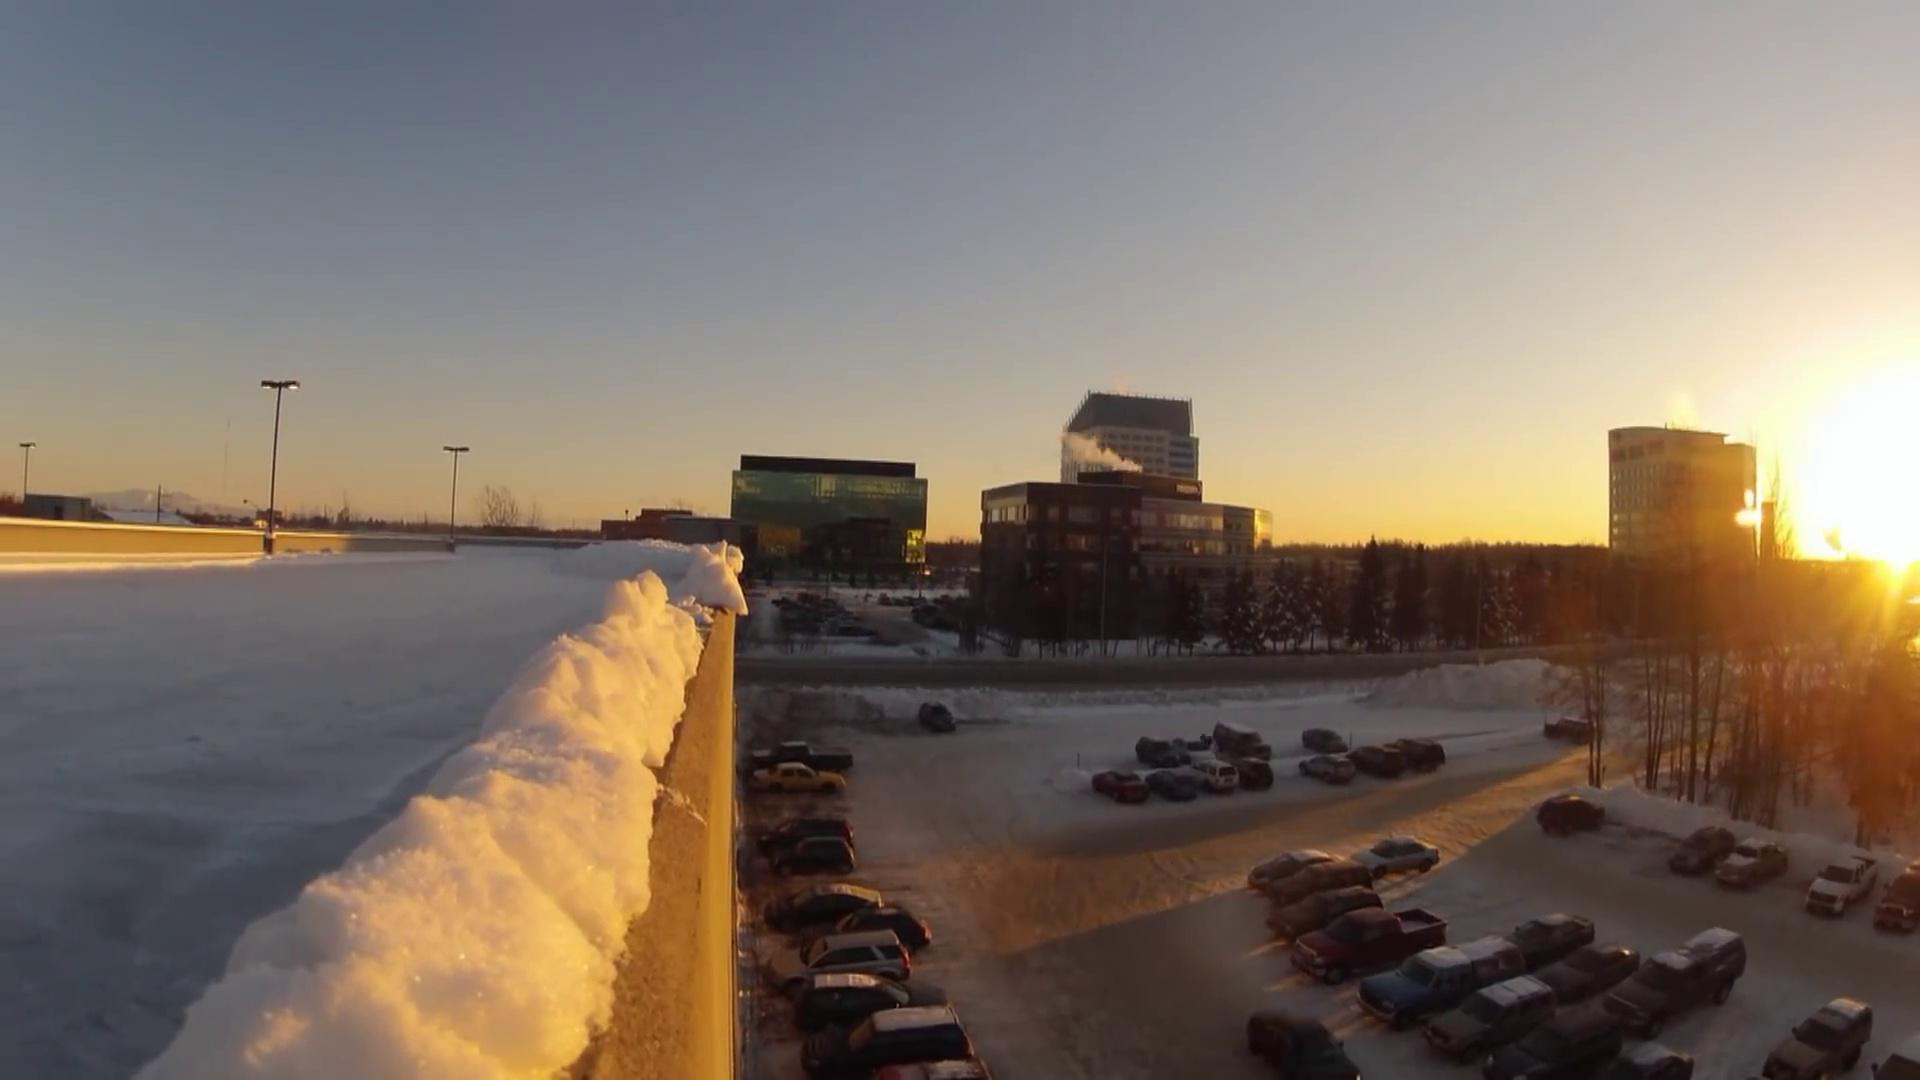Fire: (1063, 435, 1153, 476)
